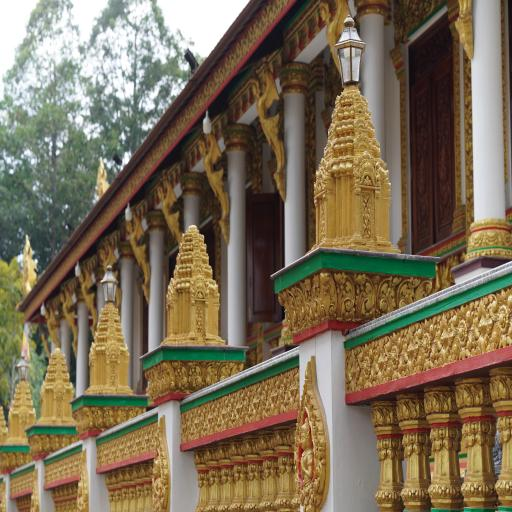ran: (15, 226, 47, 298), (87, 150, 115, 210)
than: (244, 68, 299, 212), (192, 123, 238, 238), (310, 0, 358, 79), (152, 172, 192, 264), (124, 208, 156, 300), (292, 410, 320, 505), (76, 254, 100, 338), (36, 298, 66, 365), (101, 233, 121, 305), (59, 284, 78, 358), (151, 448, 169, 512)
